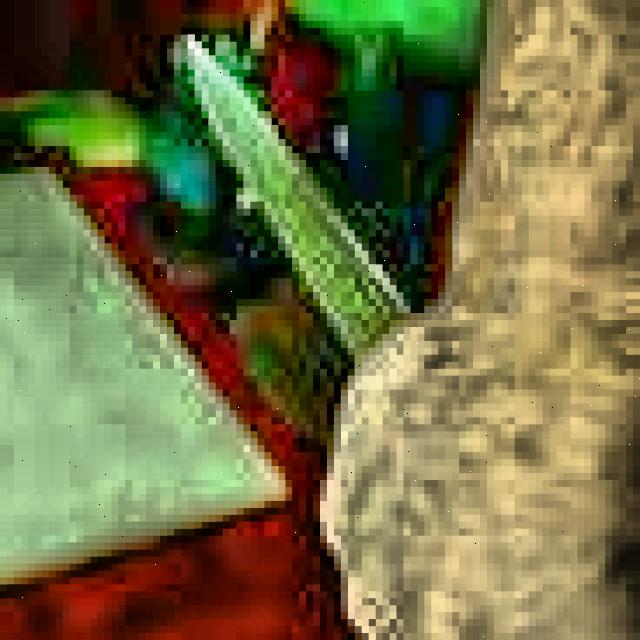knife: (184, 37, 416, 366)
